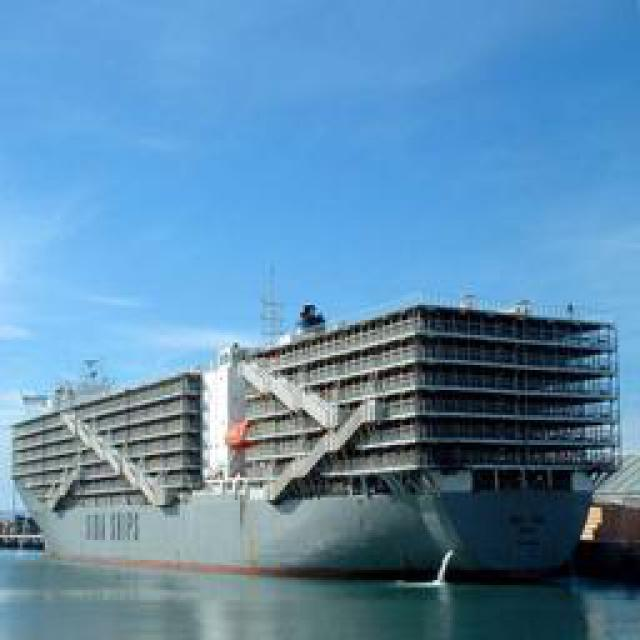Ship: (17, 312, 617, 582)
